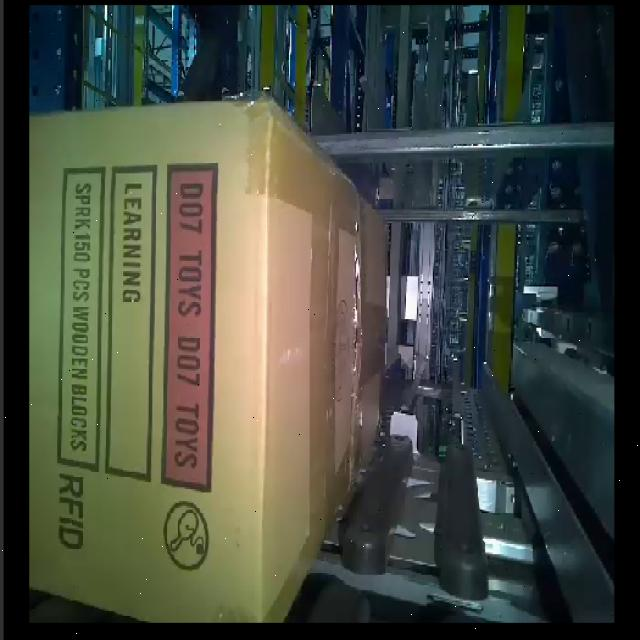box: (27, 96, 272, 625)
